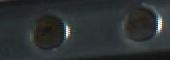joints: (117, 2, 164, 45), (25, 11, 71, 51)
